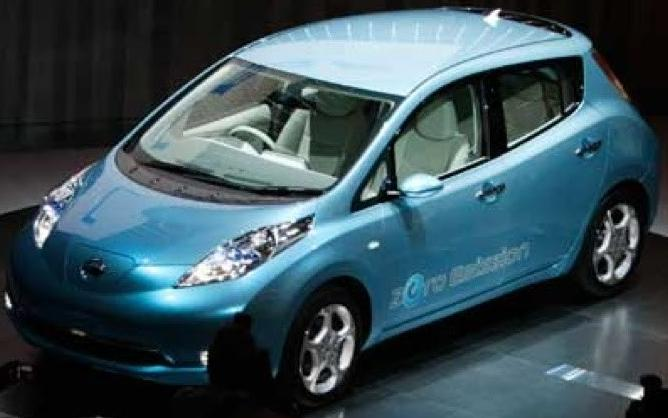front_view: (20, 197, 331, 414)
headlight: (180, 201, 332, 293)
side_glass: (361, 70, 577, 184)
